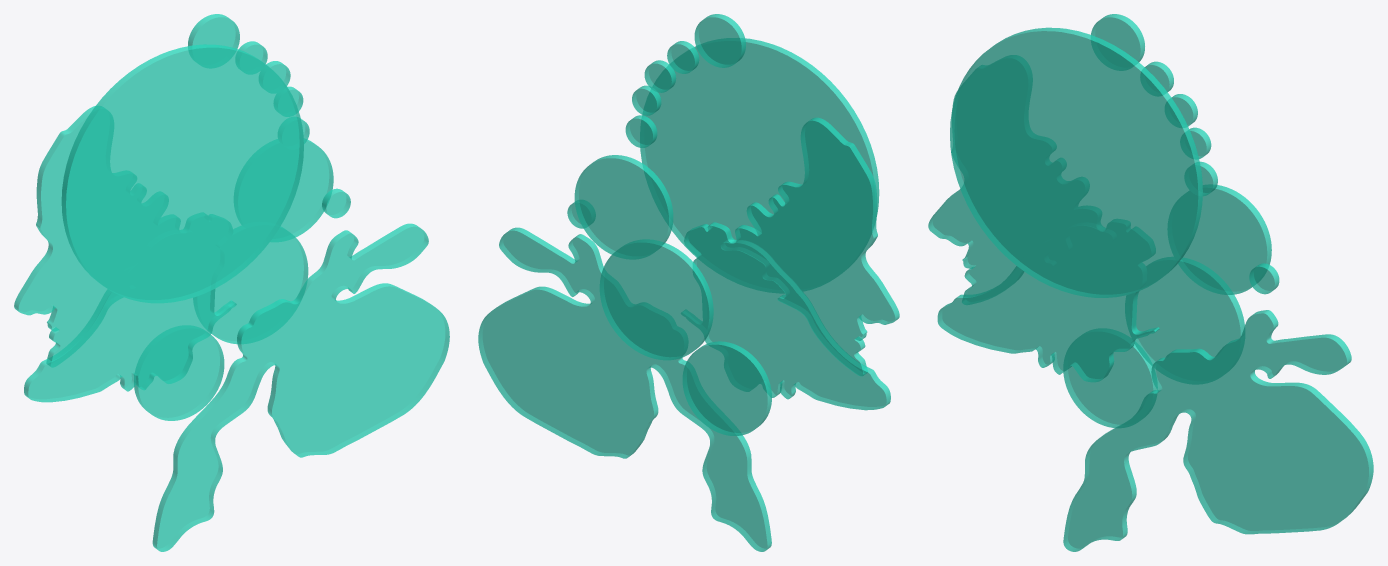
The picture shows the model from 3 angles, left to right: view 1: azimuth 30°, elevation 25°; view 2: azimuth 150°, elevation 25°; view 3: azimuth 330°, elevation 25°; orthographic projection. The views are drawn at different scales.
Visible parts, largest first — view 1: 5-GREENBLUE; view 2: 5-GREENBLUE; view 3: 5-GREENBLUE.
Boxes of the visible parts, x1,y1,x2,y2 form: 5-GREENBLUE: (14,14,449,551); 5-GREENBLUE: (478,14,899,551); 5-GREENBLUE: (928,14,1373,551).
Size of the model in its own units: 33.77 by 39.75 by 3.09.
